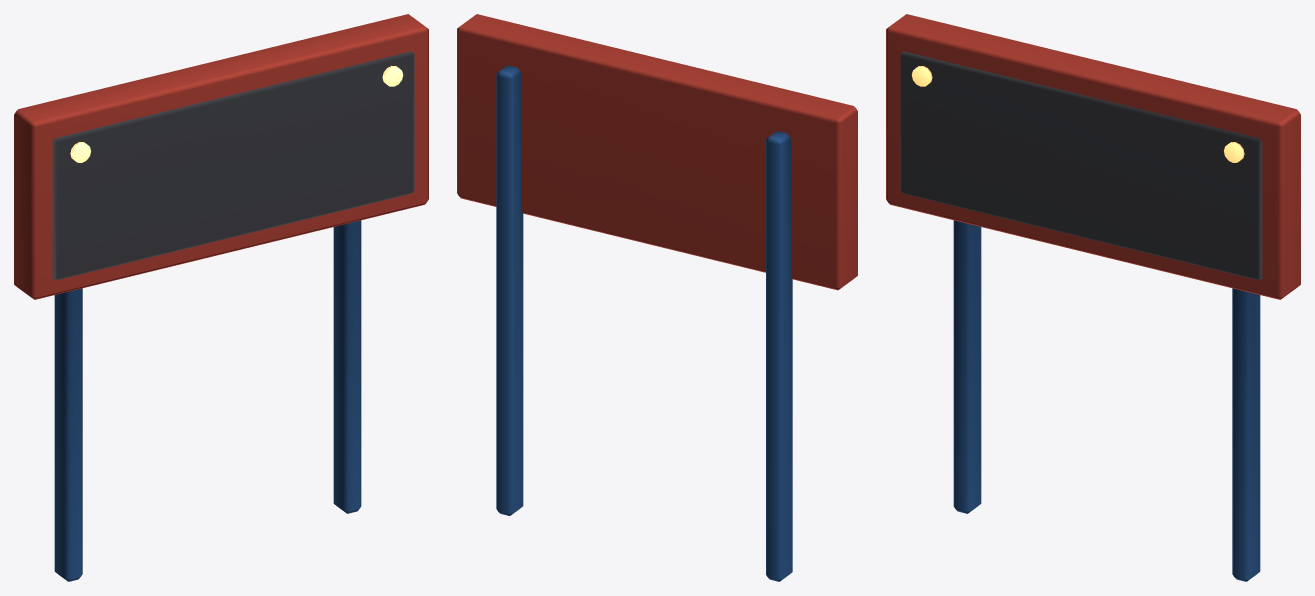
The model's file is speedway_speedway_lap_board.glb.
The picture shows the model from 3 angles, left to right: view 1: azimuth 30°, elevation 25°; view 2: azimuth 150°, elevation 25°; view 3: azimuth 330°, elevation 25°; orthographic projection. The views are drawn at different scales.
Visible parts, largest first — view 1: Lap board frame, Lap board leg; view 2: Lap board frame, Lap board leg; view 3: Lap board frame, Lap board leg.
Boxes of the visible parts, x1=… form: Lap board frame: x1=14, y1=14, x2=428, y2=299; Lap board leg: x1=54, y1=220, x2=361, y2=581; Lap board frame: x1=457, y1=14, x2=857, y2=290; Lap board leg: x1=496, y1=65, x2=792, y2=581; Lap board frame: x1=886, y1=14, x2=1300, y2=299; Lap board leg: x1=953, y1=220, x2=1260, y2=581.
Bounding box in the file's own units: 2.4 × 2.79 × 0.3885.
